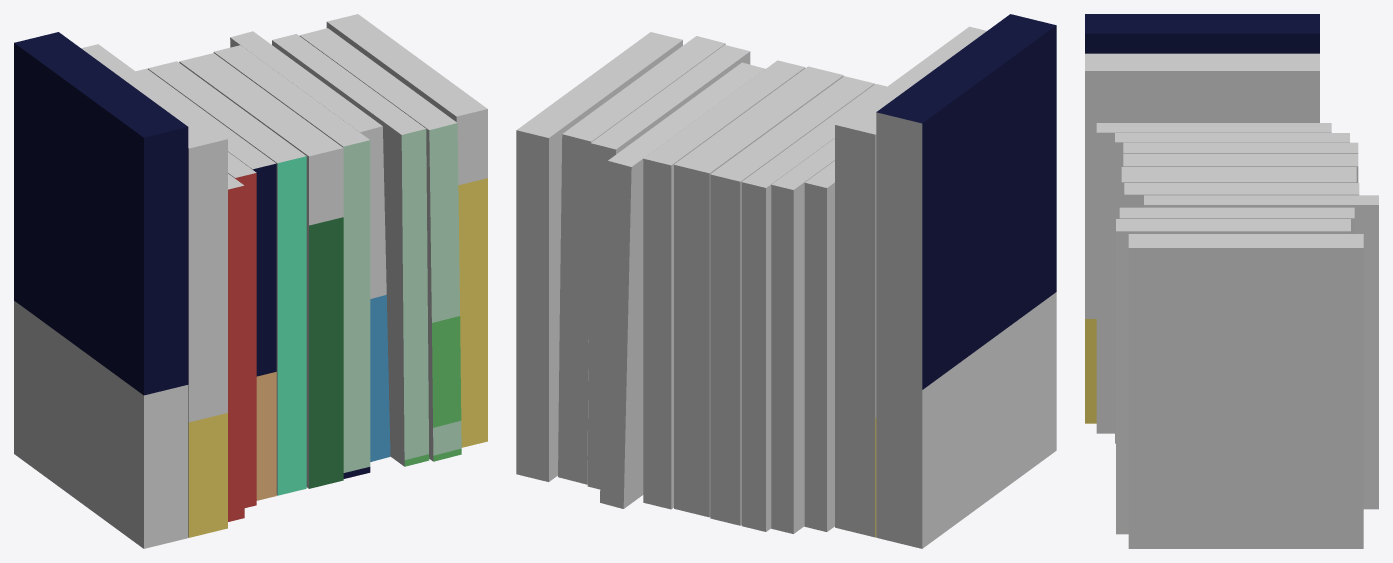
File: Book_D.glb
3 renders of one model, left to right at view 1: azimuth 30°, elevation 25°; view 2: azimuth 150°, elevation 25°; view 3: azimuth 270°, elevation 25°, orthographic. The views are drawn at different scales.
Parts seen in each view (by area): view 1: Cube.041, Cube.040, Cube.032, Cube.035, Cube.031, Cube.030, Cube.036, Cube.034, Cube.037, Cube.033, Cube.039, Cube.038; view 2: Cube.041, Cube.030, Cube.040, Cube.035, Cube.033, Cube.036, Cube.034, Cube.031, Cube.037, Cube.038, Cube.039, Cube.032; view 3: Cube.030, Cube.040, Cube.041, Cube.033, Cube.039, Cube.031, Cube.035, Cube.036, Cube.034, Cube.038, Cube.032, Cube.037.
Boxes of the visible parts, x1=… form: Cube.041: x1=14, y1=32, x2=188, y2=548; Cube.040: x1=81, y1=44, x2=227, y2=537; Cube.032: x1=272, y1=34, x2=429, y2=466; Cube.035: x1=179, y1=53, x2=343, y2=488; Cube.031: x1=299, y1=28, x2=461, y2=461; Cube.030: x1=326, y1=14, x2=487, y2=447; Cube.036: x1=147, y1=61, x2=306, y2=495; Cube.034: x1=213, y1=45, x2=370, y2=478; Cube.037: x1=136, y1=68, x2=276, y2=500; Cube.033: x1=230, y1=31, x2=390, y2=461; Cube.039: x1=228, y1=173, x2=244, y2=521; Cube.038: x1=228, y1=152, x2=256, y2=507; Cube.041: x1=876, y1=14, x2=1056, y2=548; Cube.030: x1=516, y1=32, x2=682, y2=481; Cube.040: x1=835, y1=26, x2=986, y2=537; Cube.035: x1=674, y1=66, x2=843, y2=517; Cube.033: x1=600, y1=62, x2=765, y2=508; Cube.036: x1=710, y1=76, x2=874, y2=525; Cube.034: x1=643, y1=60, x2=805, y2=509; Cube.031: x1=558, y1=36, x2=725, y2=484; Cube.037: x1=741, y1=84, x2=886, y2=531; Cube.038: x1=771, y1=138, x2=834, y2=533; Cube.039: x1=804, y1=161, x2=834, y2=531; Cube.032: x1=587, y1=45, x2=750, y2=489; Cube.030: x1=1128, y1=234, x2=1363, y2=548; Cube.040: x1=1085, y1=53, x2=1319, y2=423; Cube.041: x1=1085, y1=14, x2=1319, y2=53; Cube.033: x1=1144, y1=195, x2=1378, y2=509; Cube.039: x1=1096, y1=123, x2=1331, y2=433; Cube.031: x1=1116, y1=219, x2=1350, y2=534; Cube.035: x1=1121, y1=167, x2=1356, y2=207; Cube.036: x1=1123, y1=153, x2=1358, y2=182; Cube.034: x1=1124, y1=183, x2=1359, y2=207; Cube.038: x1=1115, y1=133, x2=1349, y2=443; Cube.032: x1=1119, y1=207, x2=1354, y2=233; Cube.037: x1=1123, y1=142, x2=1358, y2=153.
Bounding box in the file's own units: 0.5541 × 0.5918 × 0.423.
